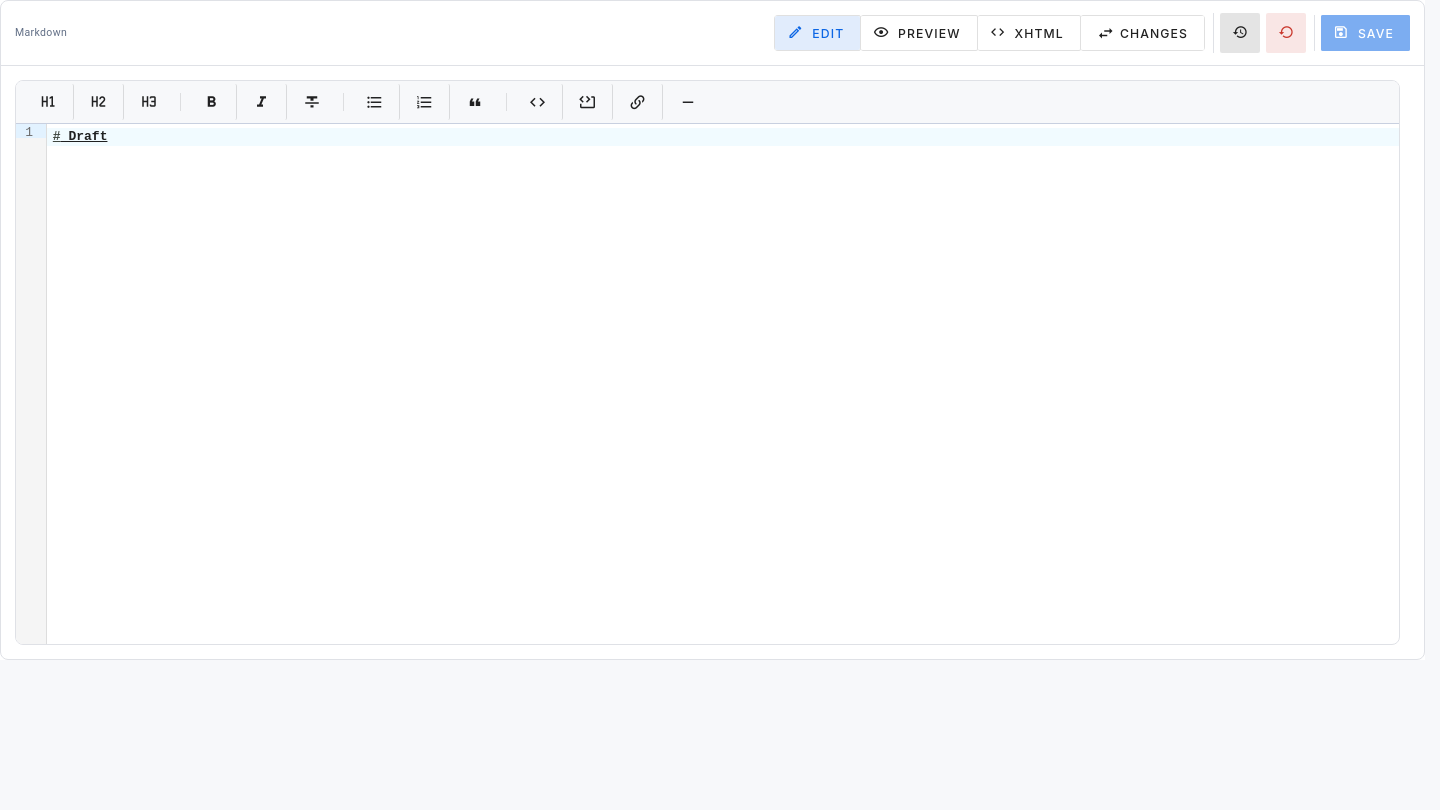
Test case: MarkdownWorkspace › shows generated Storage XHTML in a formatted text view
Step 1. Click the button "XHTML" → (1029,33), box [978,15,1081,51]
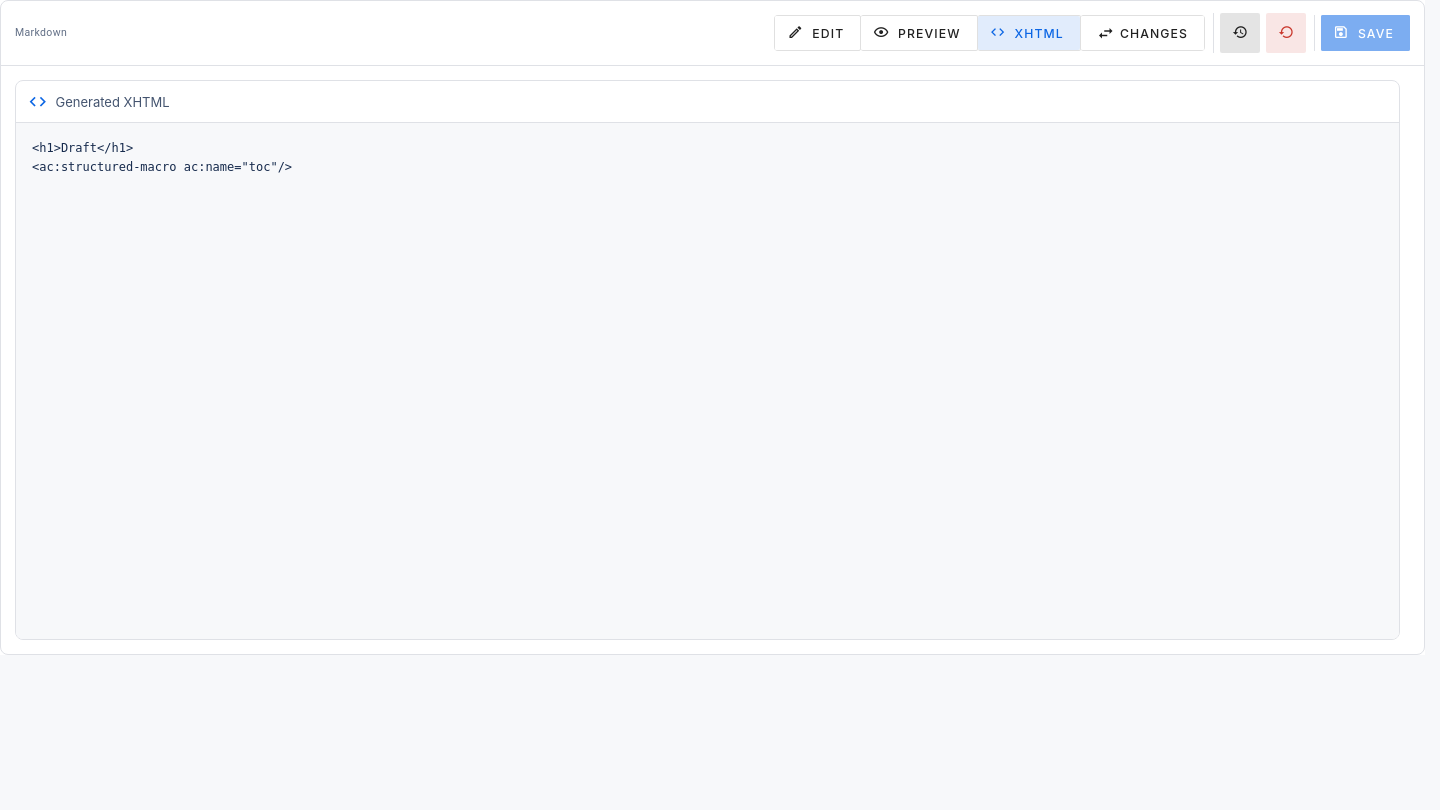
Expected: the text "Generated XHTML" is shown, [56,92,170,110]
